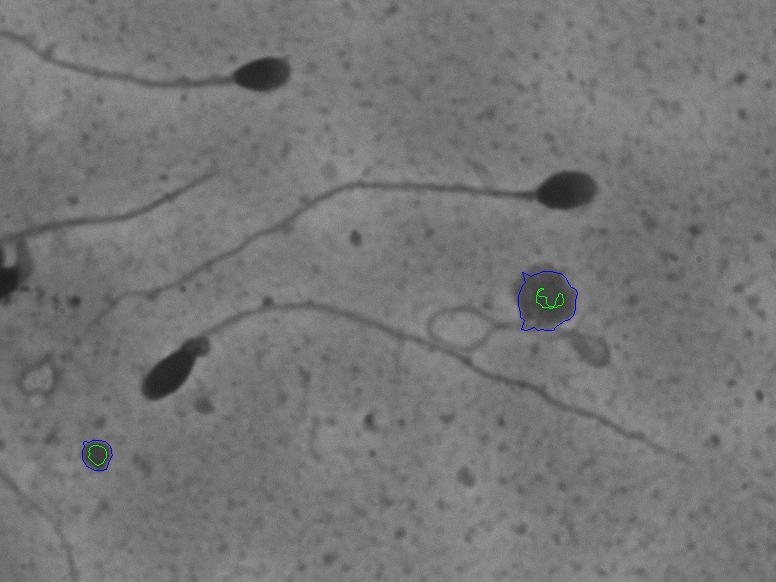Abnormal: (127, 285, 700, 481)
Normal: (34, 152, 614, 375), (17, 12, 322, 126)
